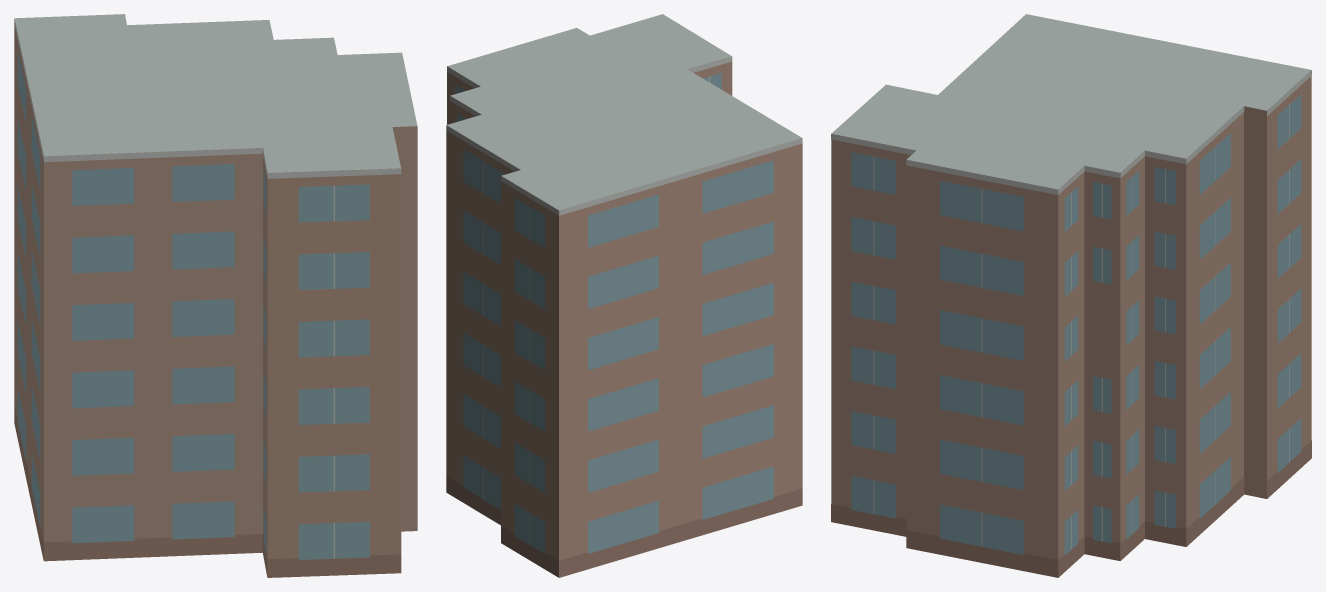
The model's file is survey-upis-32998110.glb.
The picture shows the model from 3 angles, left to right: view 1: azimuth 30°, elevation 25°; view 2: azimuth 150°, elevation 25°; view 3: azimuth 270°, elevation 25°; orthographic projection. The views are drawn at different scales.
Parts seen in each view (by area): view 1: survey-upis-32998110.tmp; view 2: survey-upis-32998110.tmp; view 3: survey-upis-32998110.tmp.
Boxes of the visible parts, x1,y1,x2,y2 form: survey-upis-32998110.tmp: (14, 14, 417, 577); survey-upis-32998110.tmp: (446, 14, 802, 577); survey-upis-32998110.tmp: (831, 14, 1311, 577).
Bounding box in the file's own units: 16.39 × 16.9 × 18.96.
